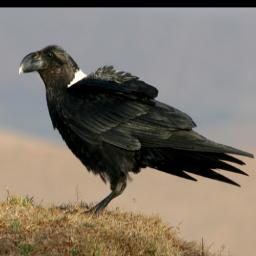Crow: (14, 42, 256, 221)
